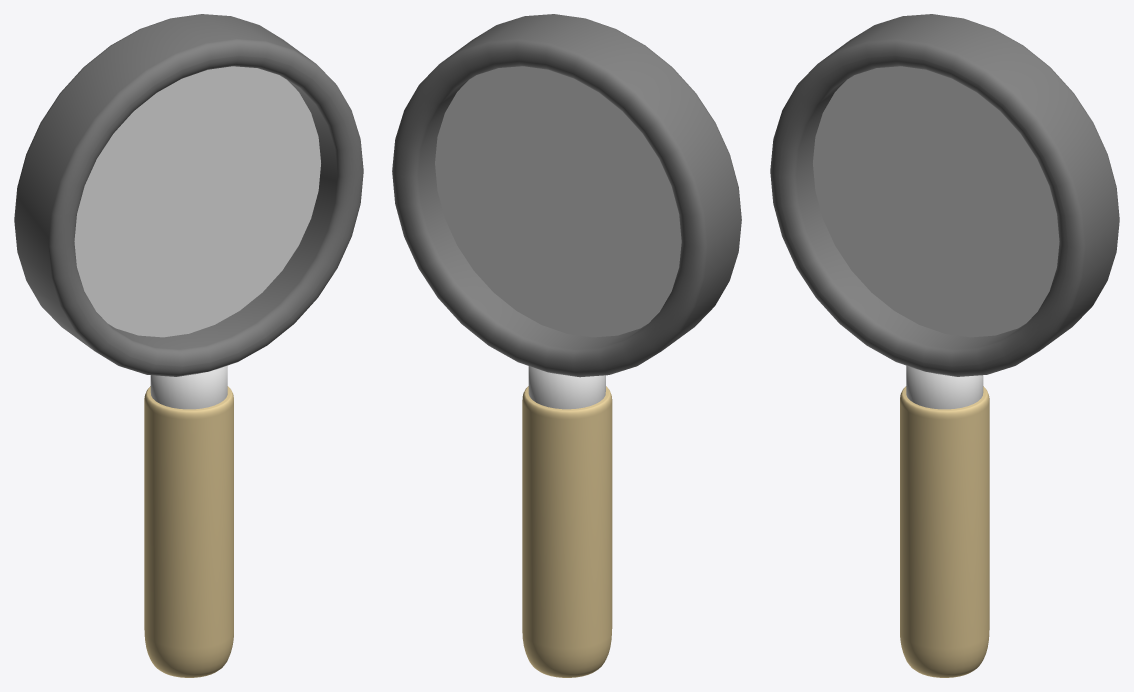
File: low-poly_3d_magnifying_glass.glb
3 views of the same model, side by side, from view 1: azimuth 30°, elevation 25°; view 2: azimuth 150°, elevation 25°; view 3: azimuth 330°, elevation 25° (orthographic).
Parts seen in each view (by area): view 1: Circle.006, Circle.005, Cylinder.030, Cylinder.029; view 2: Circle.006, Circle.005, Cylinder.030, Cylinder.029; view 3: Circle.006, Circle.005, Cylinder.030, Cylinder.029.
Part boxes in pixels (<box>): Circle.006: <box>74,66,320,337</box>; Circle.005: <box>14,14,363,376</box>; Cylinder.030: <box>144,386,233,677</box>; Cylinder.029: <box>150,365,227,409</box>; Circle.006: <box>435,66,681,337</box>; Circle.005: <box>392,14,741,377</box>; Cylinder.030: <box>522,386,612,677</box>; Cylinder.029: <box>528,366,605,409</box>; Circle.006: <box>813,66,1059,337</box>; Circle.005: <box>770,14,1119,376</box>; Cylinder.030: <box>900,386,989,677</box>; Cylinder.029: <box>906,365,983,409</box>.
Size of the model in its own units: 2.29 by 4.4 by 0.5661.
